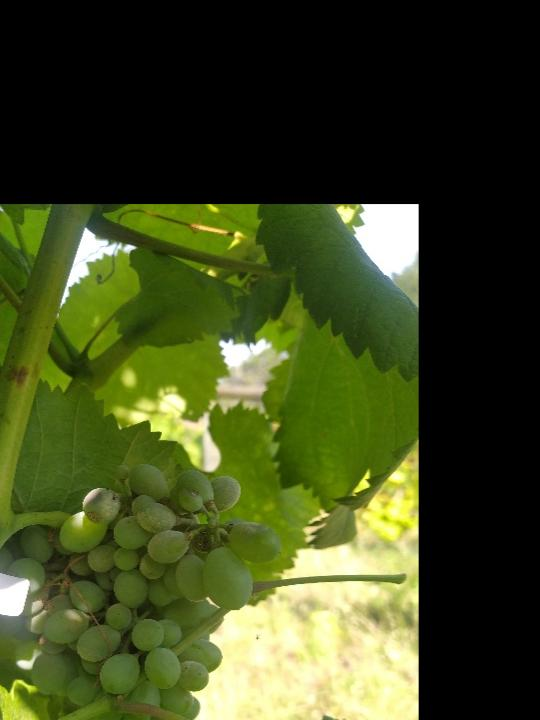grape: (0, 455, 289, 720)
